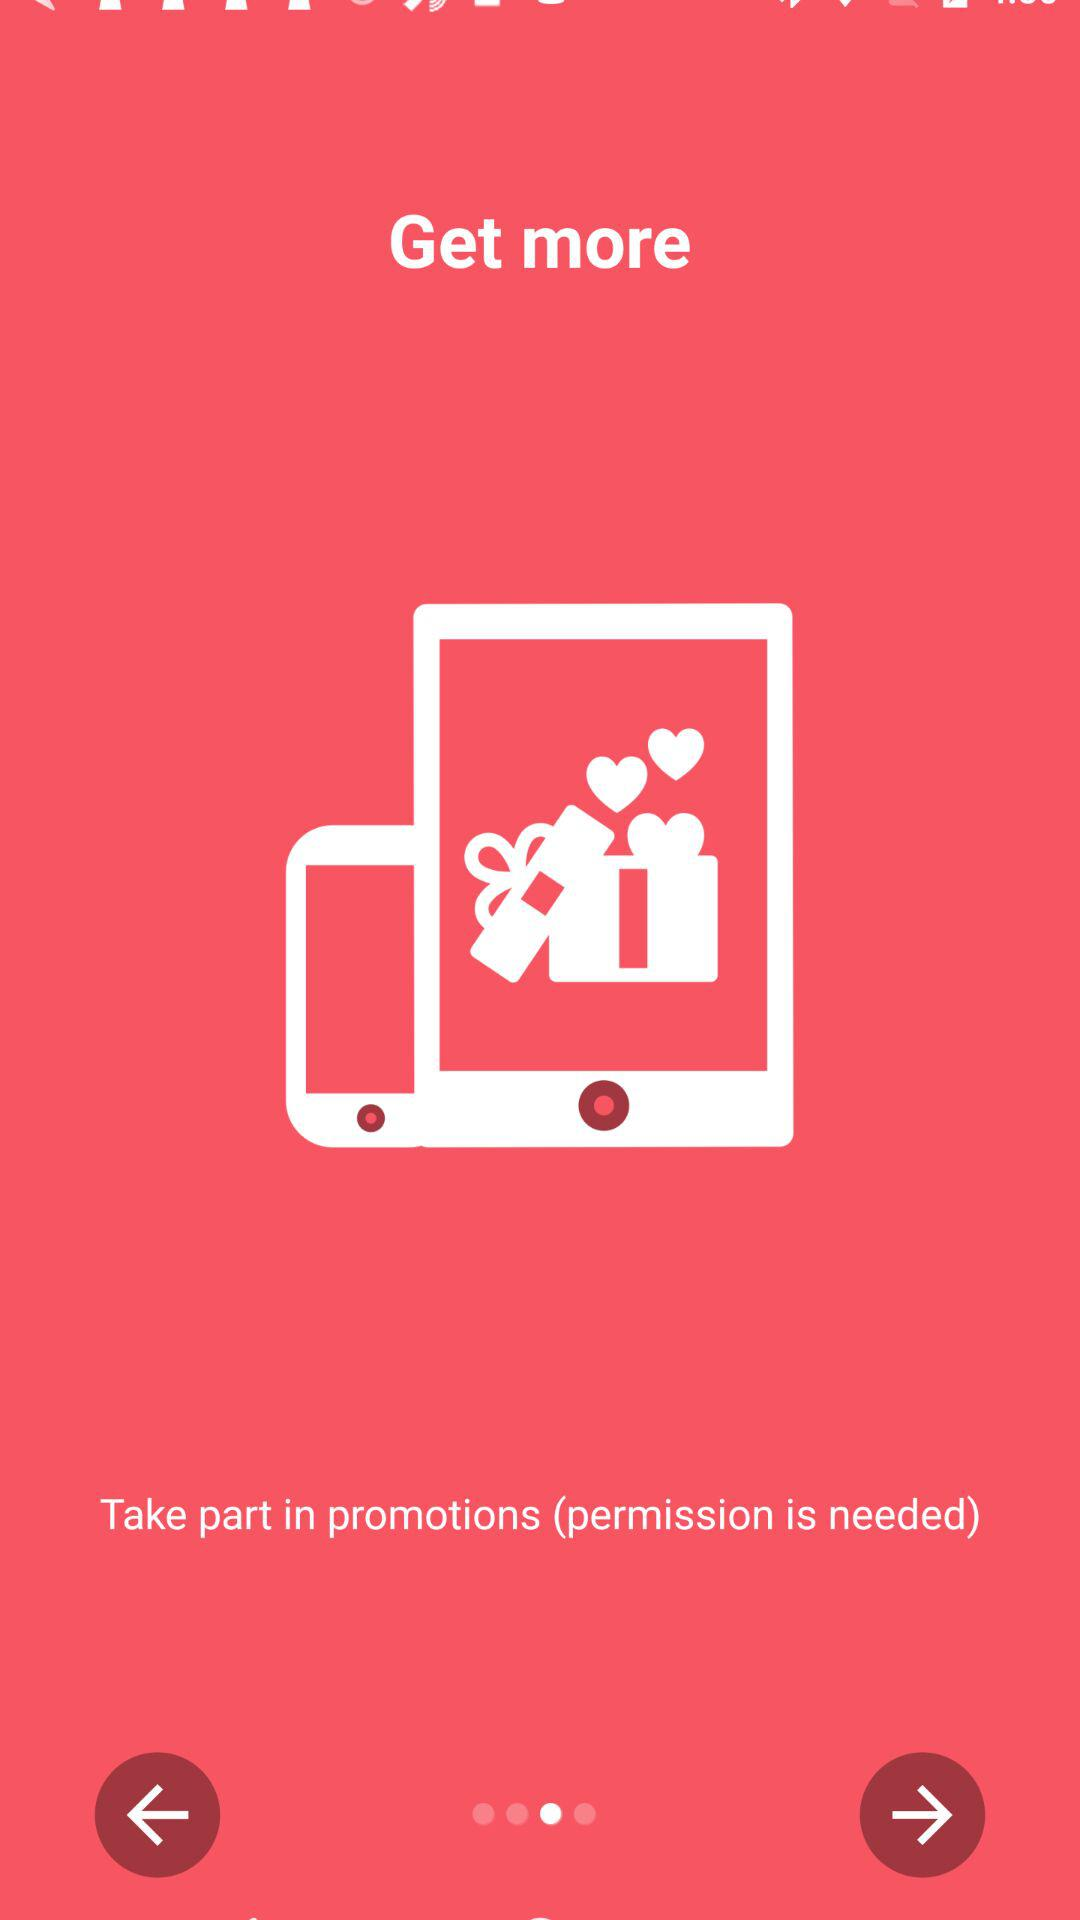Icon: (858, 1751, 988, 1879), (95, 1751, 222, 1879)
Image: (285, 603, 795, 1150)
PageIndicator: (469, 1800, 597, 1828)
Text: (99, 1494, 982, 1542), (390, 214, 694, 274)
